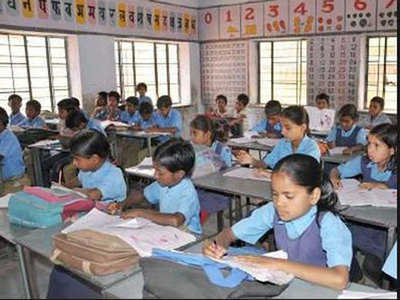student: (213, 152, 349, 271), (117, 142, 204, 228), (56, 131, 125, 226), (233, 108, 318, 171), (342, 119, 400, 196), (178, 110, 235, 168)
